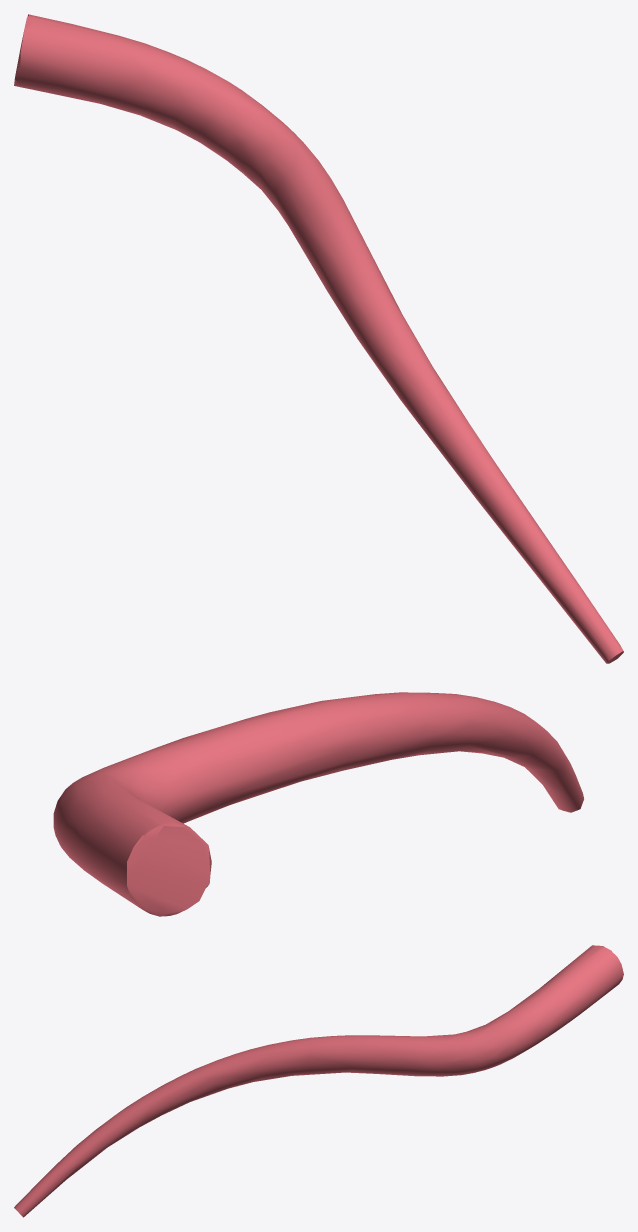
The model's file is fma13279_fj2906.glb.
The picture shows the model from 3 angles, top to bottom: view 1: azimuth 30°, elevation 25°; view 2: azimuth 150°, elevation 25°; view 3: azimuth 270°, elevation 25°; orthographic projection. The views are drawn at different scales.
Visible parts, largest first — view 1: FMA13279_FJ2906; view 2: FMA13279_FJ2906; view 3: FMA13279_FJ2906.
Part boxes in pixels (bbox=[...]): FMA13279_FJ2906: bbox=[14, 14, 623, 663]; FMA13279_FJ2906: bbox=[53, 692, 583, 916]; FMA13279_FJ2906: bbox=[14, 945, 623, 1217].
Size of the model in its own units: 0.0194 by 0.0339 by 0.0824.
